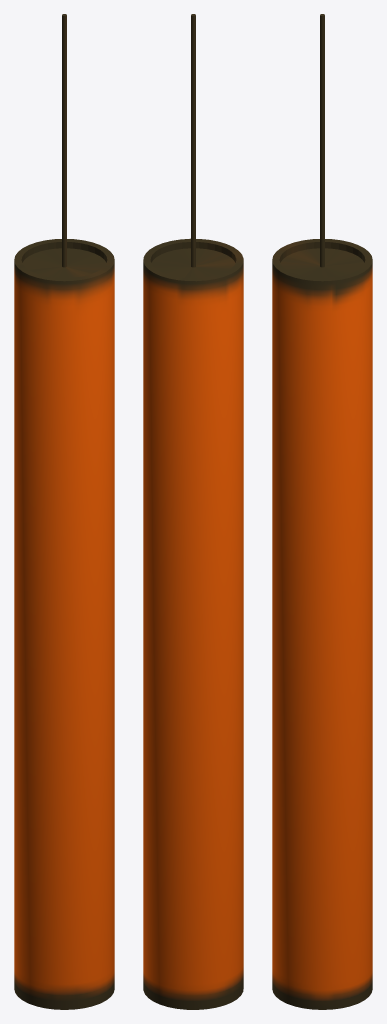
The model's file is Dynamite.obj.
The picture shows the model from 3 angles, left to right: view 1: azimuth 90°, elevation 25°; view 2: azimuth 150°, elevation 25°; view 3: azimuth 270°, elevation 25°; orthographic projection.
Visible parts, largest first — view 1: Cylinder; view 2: Cylinder; view 3: Cylinder.
Boxes of the visible parts, x1,y1,x2,y2 form: Cylinder: [14, 14, 114, 1009]; Cylinder: [143, 14, 243, 1009]; Cylinder: [272, 14, 372, 1009].
Size of the model in its own units: 0.2 by 2.14 by 0.2.
